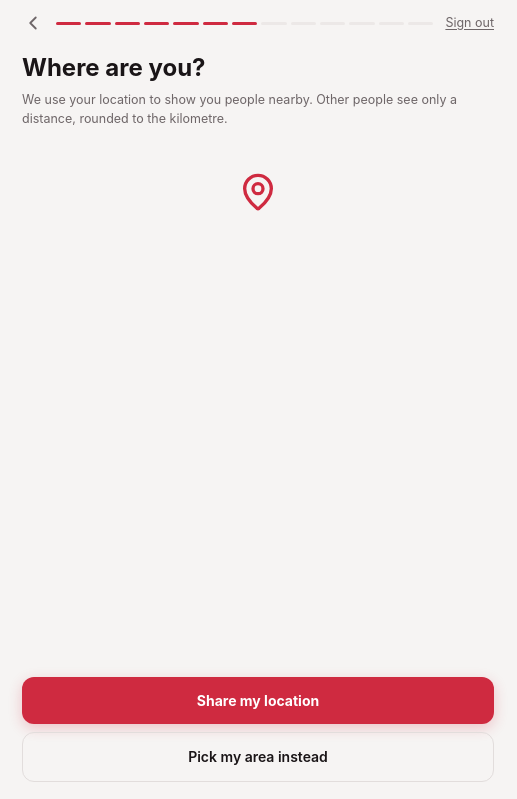
Test: the location question (T-4.10, D-220) › can go back from the picker to sharing, when the browser may still allow it
This screenshot has width=517, height=799.
Click the button "Share my location" at x=258, y=701, box [22,677,494,724]
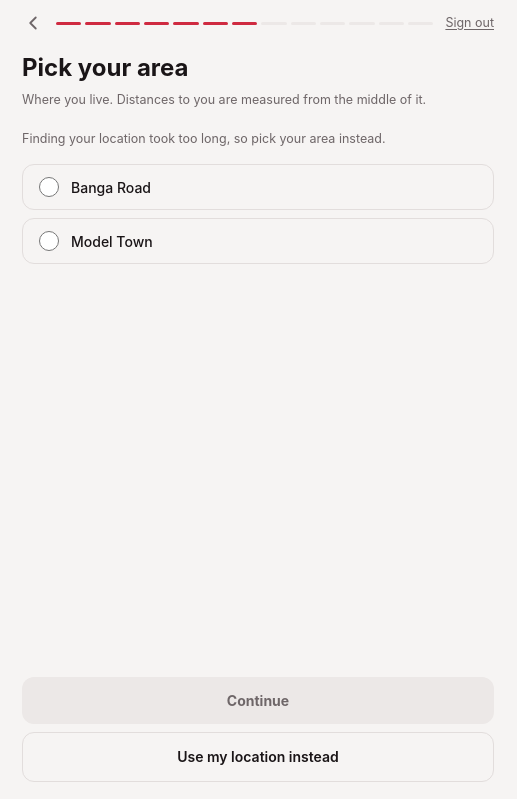
Click the button "Use my location instead" at x=258, y=757, box [22,732,494,782]
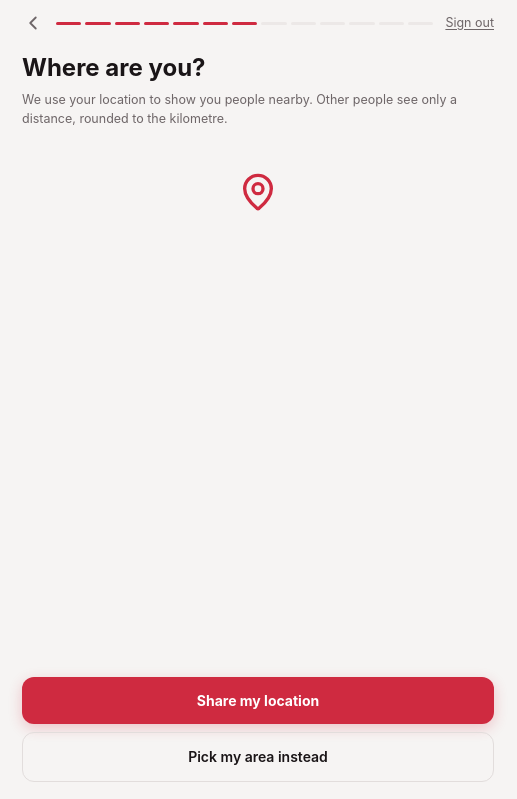
Result: the heading "Where are you?" is shown at [22,53,206,82]
